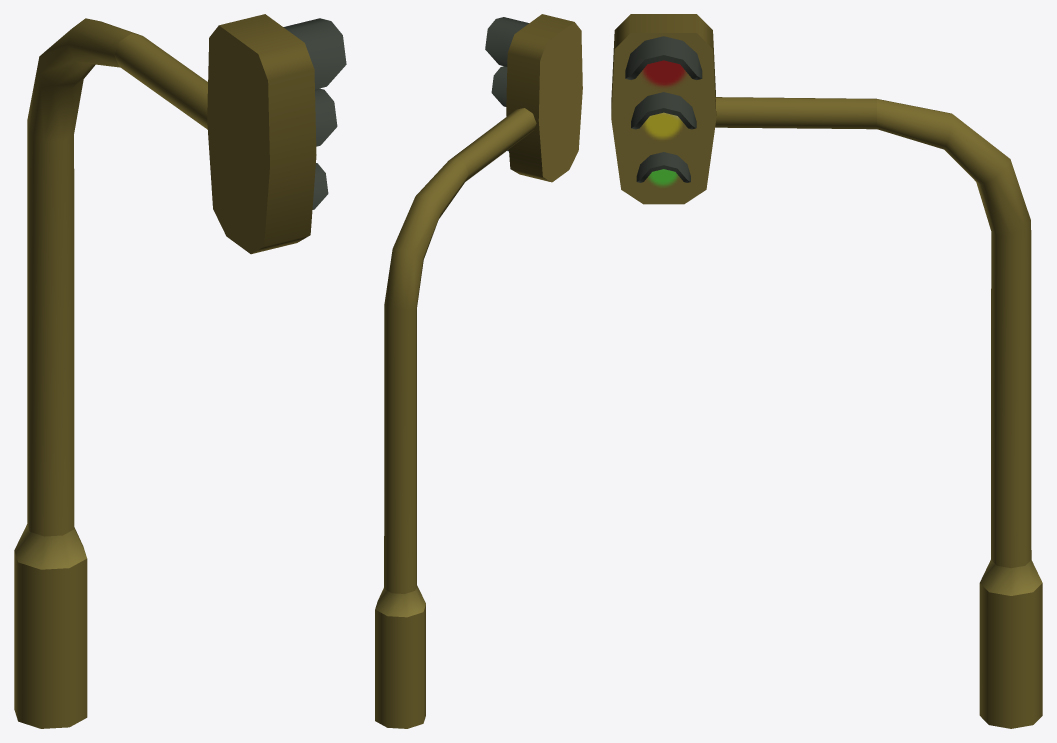
The model's file is Trafic_Ligth_A1.fbx.
The picture shows the model from 3 angles, left to right: view 1: azimuth 30°, elevation 25°; view 2: azimuth 150°, elevation 25°; view 3: azimuth 270°, elevation 25°; orthographic projection. The views are drawn at different scales.
Parts seen in each view (by area): view 1: Trafic_Ligth_A1; view 2: Trafic_Ligth_A1; view 3: Trafic_Ligth_A1.
Boxes of the visible parts, x1,y1,x2,y2 form: Trafic_Ligth_A1: (14, 14, 346, 728); Trafic_Ligth_A1: (375, 14, 582, 728); Trafic_Ligth_A1: (611, 14, 1042, 728).
Size of the model in its own units: 76.63 by 579 by 327.
